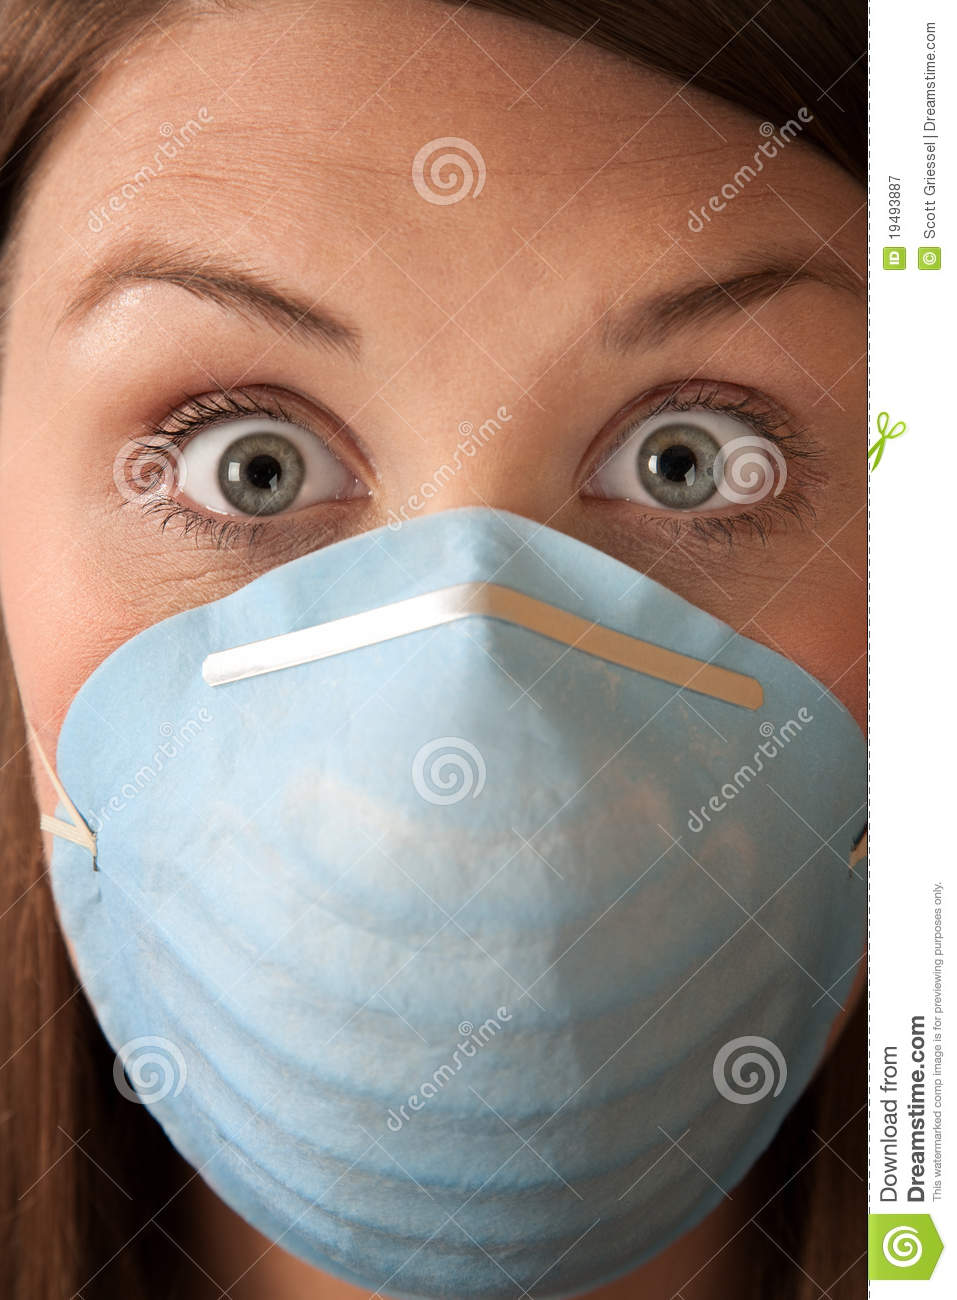mask: (18, 561, 862, 1265)
